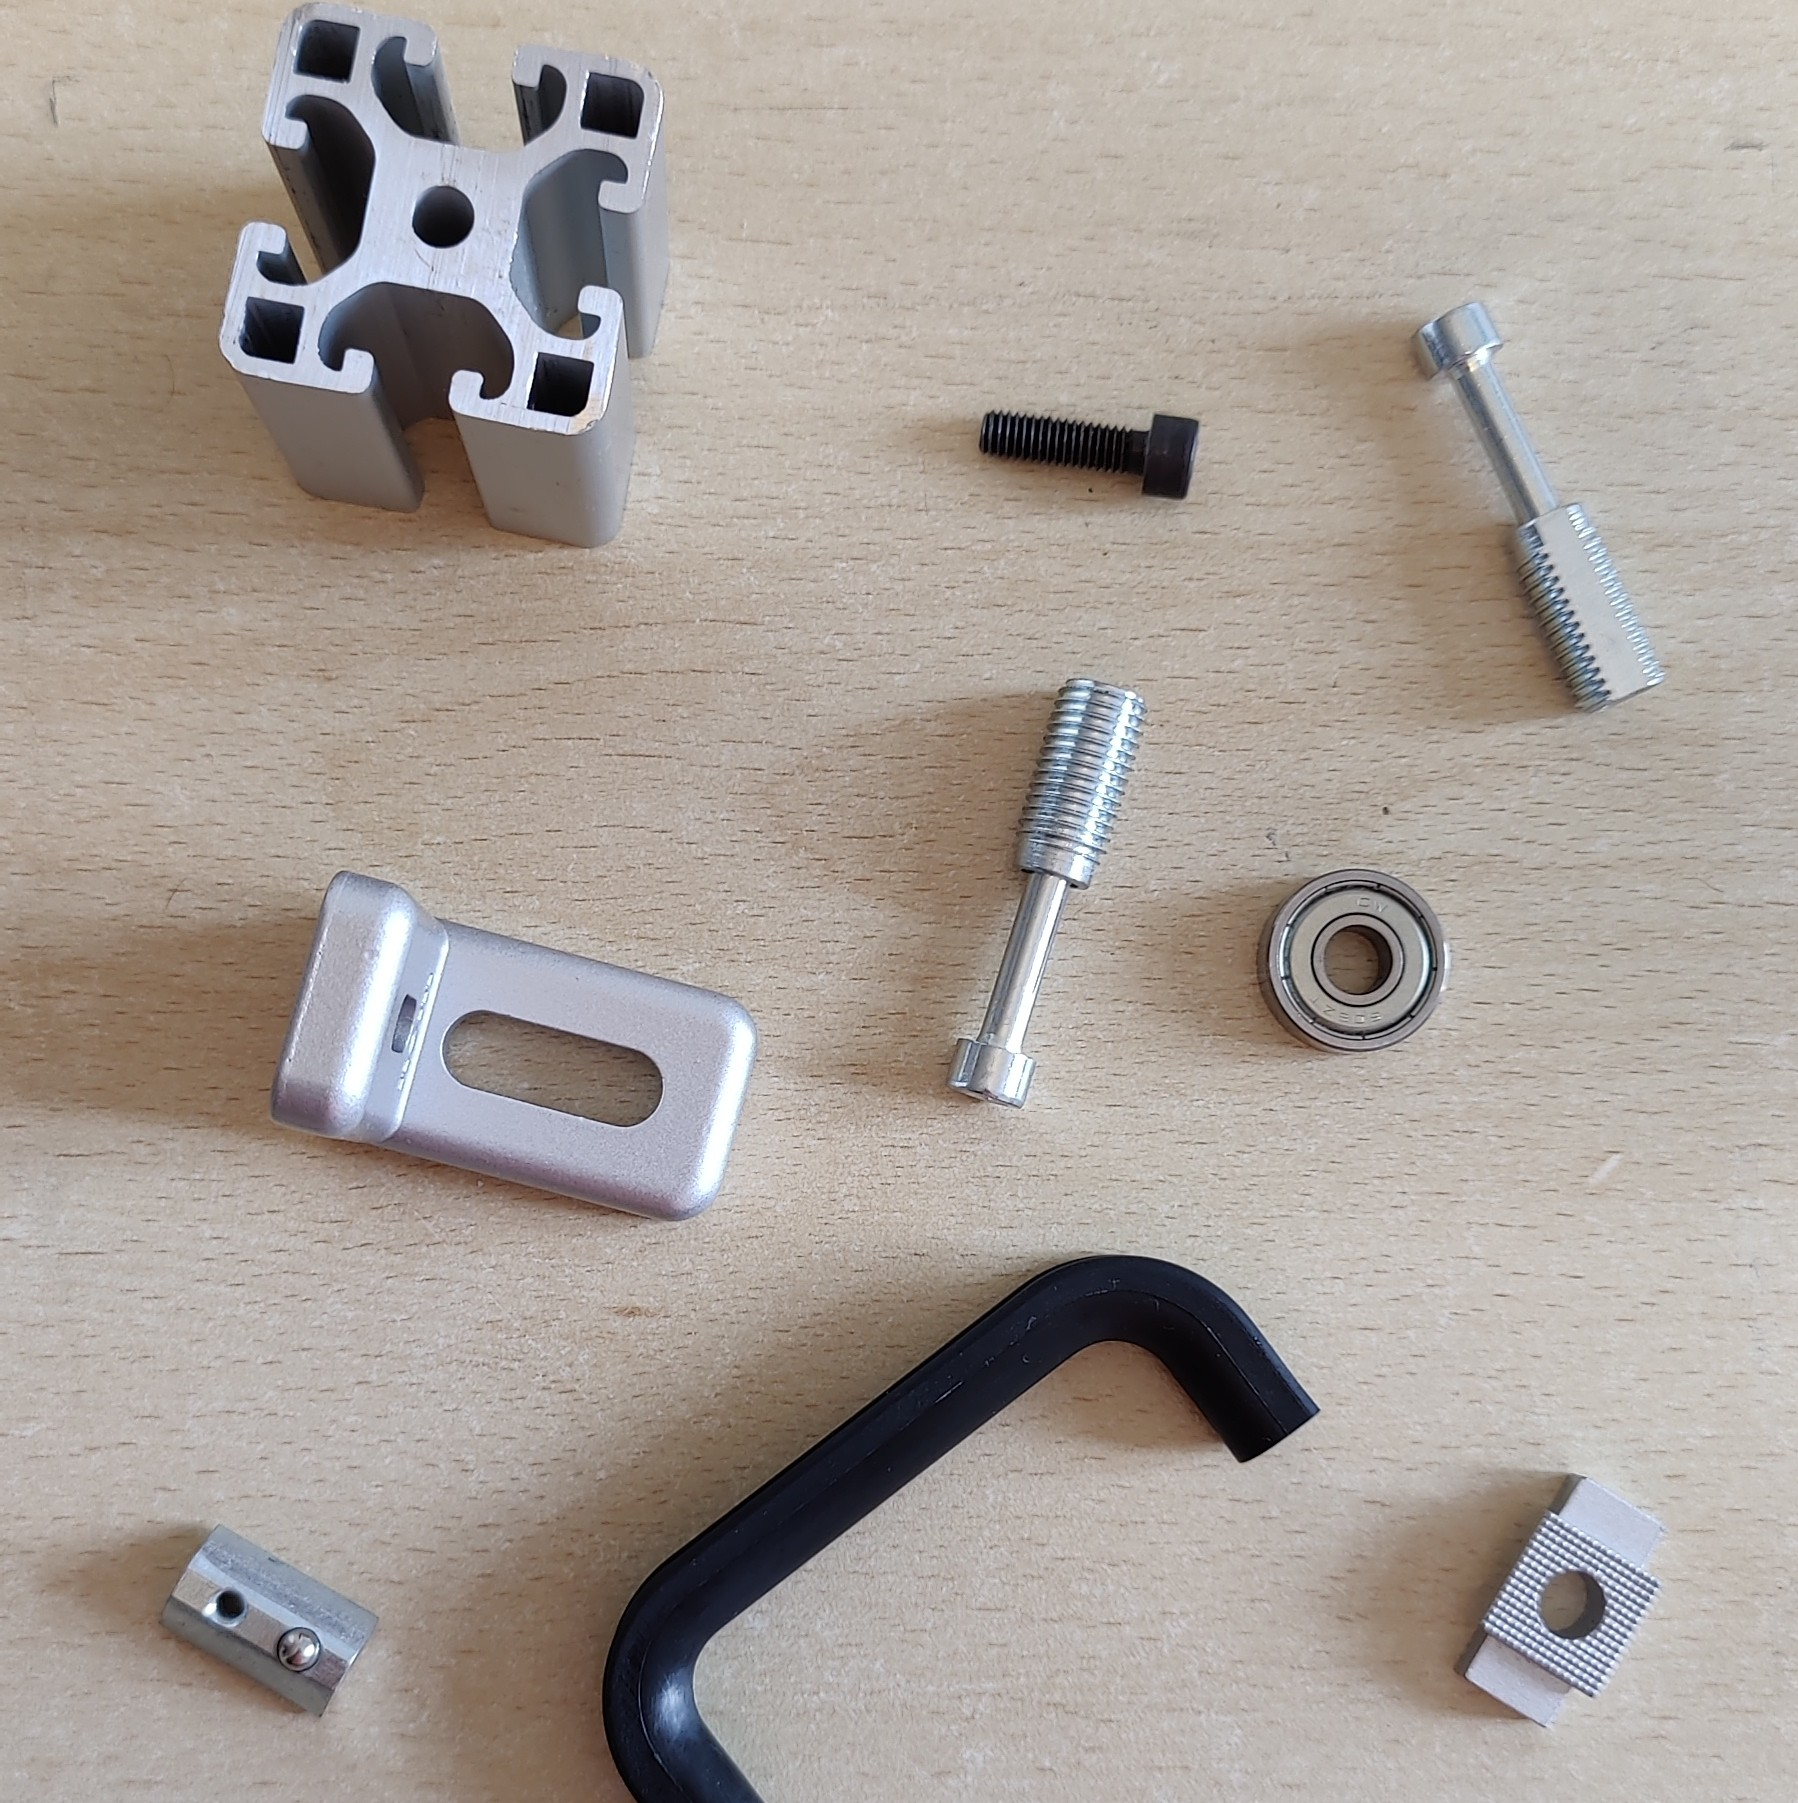Aluminium Extension: (214, 2, 673, 552)
Ball Bearing: (1255, 866, 1452, 1057)
Multiwinkel: (265, 869, 762, 1223)
Pull Handle: (598, 1251, 1322, 1803)
Shoulder Socket Head Cap Screw: (1409, 296, 1670, 716), (945, 673, 1151, 1115)
Socket Head Cap Screw: (973, 403, 1204, 501)
T Nut Square: (1452, 1470, 1670, 1731)
T Spring Nut: (155, 1520, 382, 1722)
